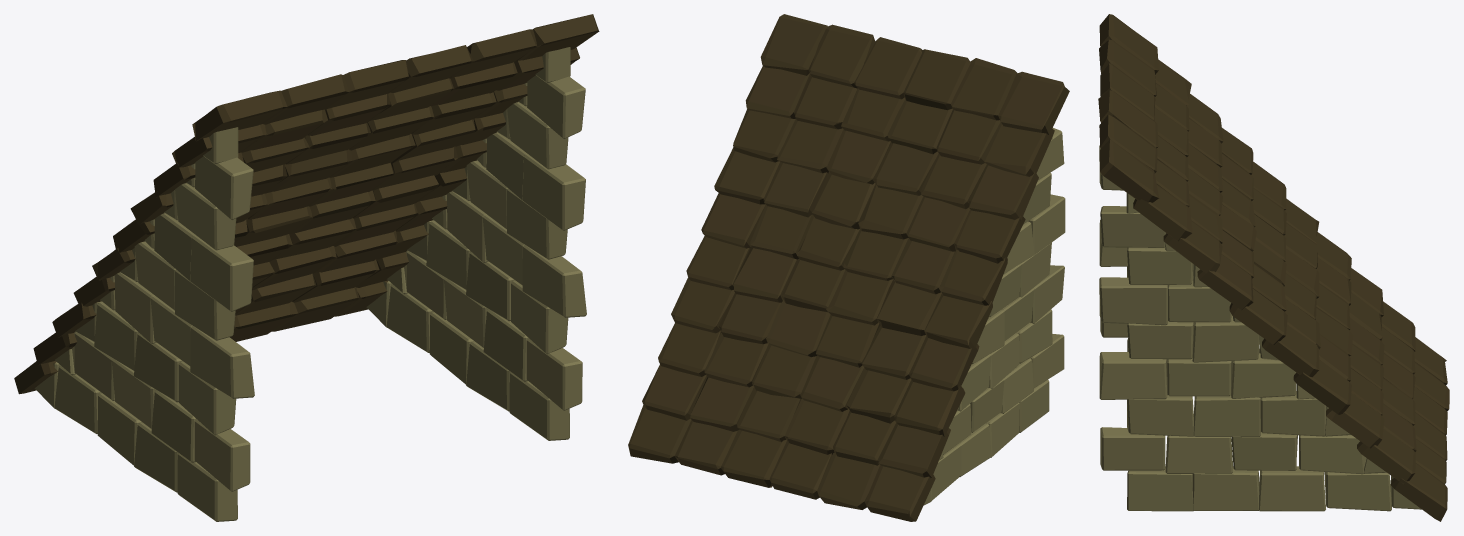
The model's file is BrickWall-Sandstone-Roof-Both.fbx.
3 renders of one model, left to right at view 1: azimuth 30°, elevation 25°; view 2: azimuth 150°, elevation 25°; view 3: azimuth 270°, elevation 25°, orthographic. The views are drawn at different scales.
Parts seen in each view (by area): view 1: Cube.010, Stone Base wall.013, Stone Base wall.014; view 2: Cube.010, Stone Base wall.013; view 3: Cube.010, Stone Base wall.014, Stone Base wall.013.
Part boxes in pixels (x1,y1,x2,y2): Cube.010: (14,14,599,394); Stone Base wall.013: (34,127,254,521); Stone Base wall.014: (366,47,586,440); Cube.010: (628,14,1069,521); Stone Base wall.013: (923,128,1065,505); Cube.010: (1098,14,1449,521); Stone Base wall.014: (1099,193,1421,511); Stone Base wall.013: (1099,145,1260,353).
Size of the model in its own units: 883 by 973 by 857.
